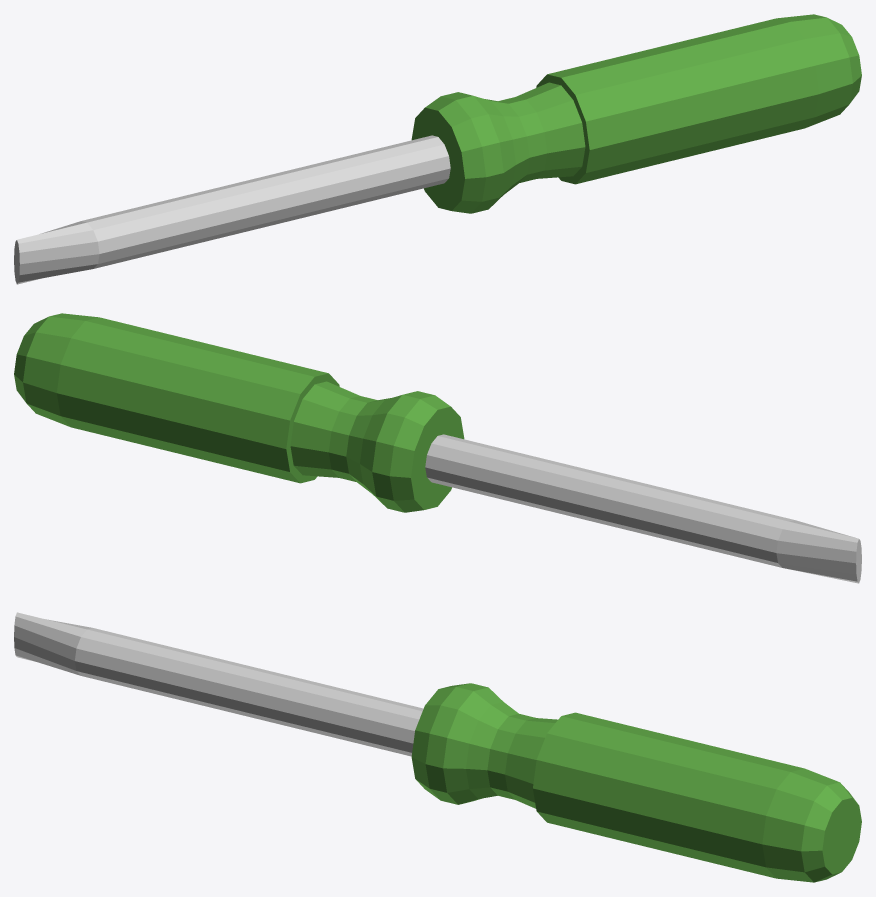
File: screw_driver2.glb
The picture shows the model from 3 angles, top to bottom: view 1: azimuth 30°, elevation 25°; view 2: azimuth 150°, elevation 25°; view 3: azimuth 330°, elevation 25°; orthographic projection.
Parts seen in each view (by area): view 1: Cylinder; view 2: Cylinder; view 3: Cylinder.
Part boxes in pixels (x1,y1,x2,y2): Cylinder: (14,14,861,284); Cylinder: (14,313,861,583); Cylinder: (14,612,861,882).
Bounding box in the file's own units: 3.55 × 0.4525 × 0.4525.
1 material, 1 textured.
